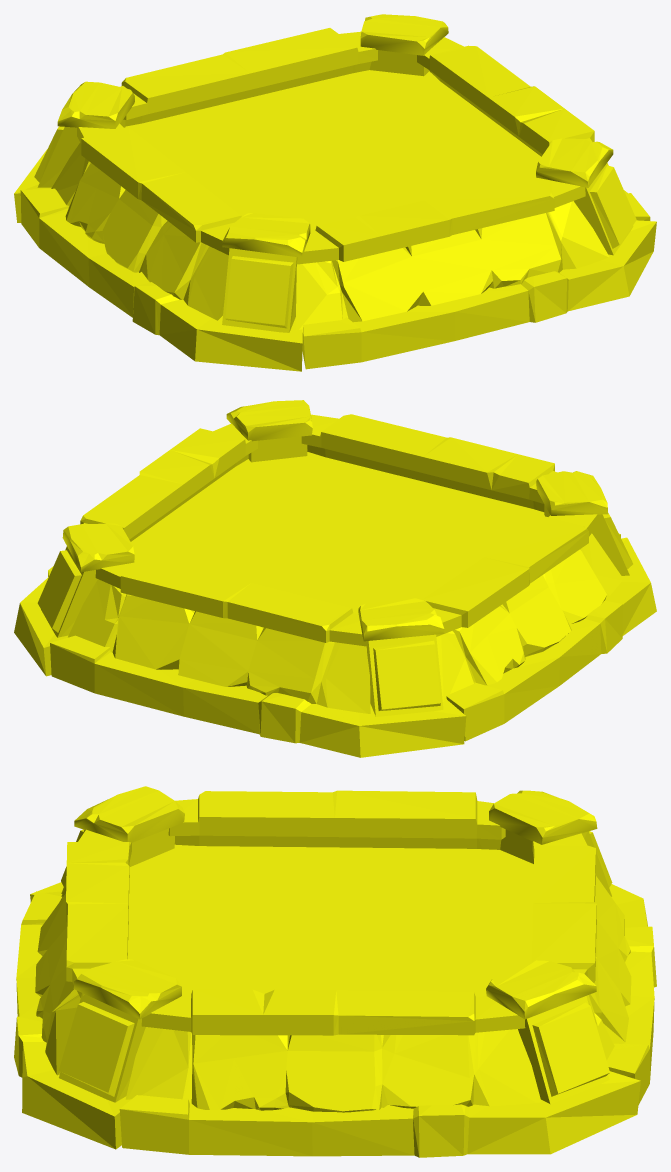
The picture shows the model from 3 angles, top to bottom: view 1: azimuth 30°, elevation 25°; view 2: azimuth 150°, elevation 25°; view 3: azimuth 270°, elevation 25°; orthographic projection. The views are drawn at different scales.
Visible parts, largest first — view 1: bg_atm_border_fountain02_sm_bjh; view 2: bg_atm_border_fountain02_sm_bjh; view 3: bg_atm_border_fountain02_sm_bjh.
Boxes of the visible parts, x1,y1,x2,y2 form: bg_atm_border_fountain02_sm_bjh: [14, 14, 656, 371]; bg_atm_border_fountain02_sm_bjh: [14, 400, 656, 757]; bg_atm_border_fountain02_sm_bjh: [14, 786, 656, 1157].
Bounding box in the file's own units: 9.76 × 2.16 × 9.76.
Materials: 2 (2 with a texture image).
